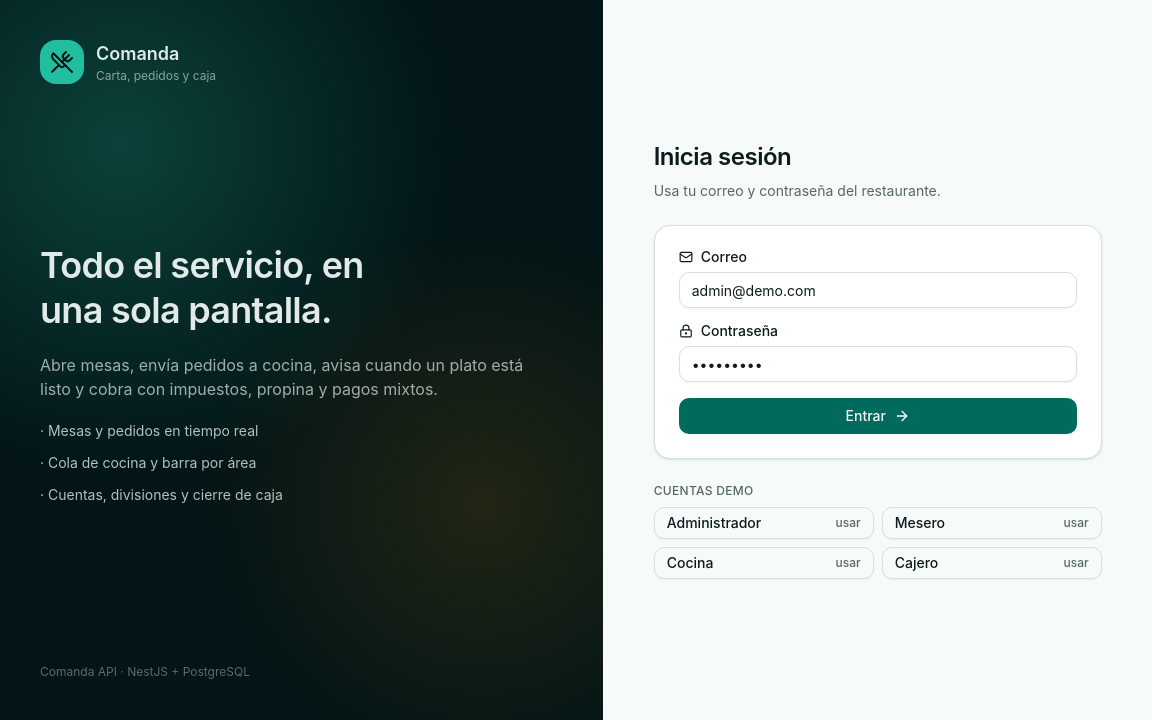
LoginPage › rellena las credenciales de las cuentas demo
Click the button "Mesero usar": (992, 523) [882, 507, 1102, 539]
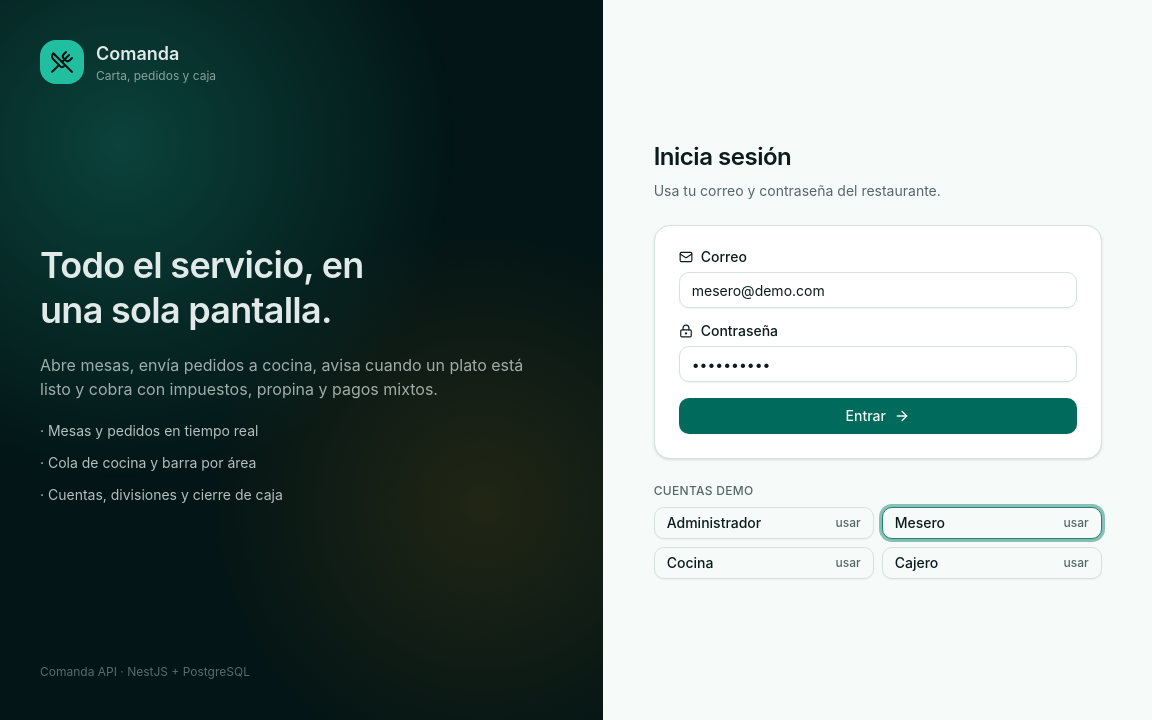
Expected: the password field labelled "Contraseña" holds "Mesero123!", [679, 346, 1077, 382]
Now the field labelled "Correo" holds "mesero@demo.com", box [679, 272, 1077, 308]
